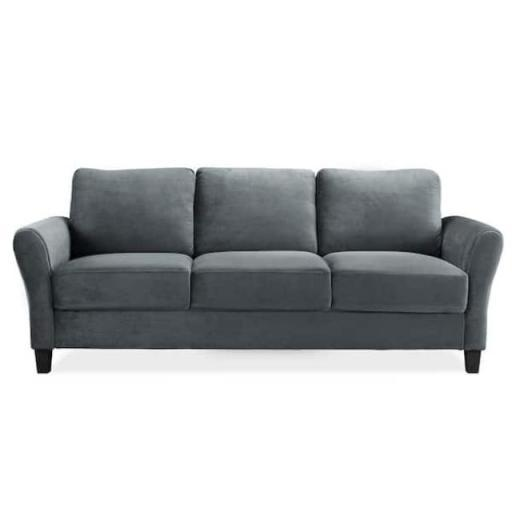sofa: (5, 152, 512, 386)
